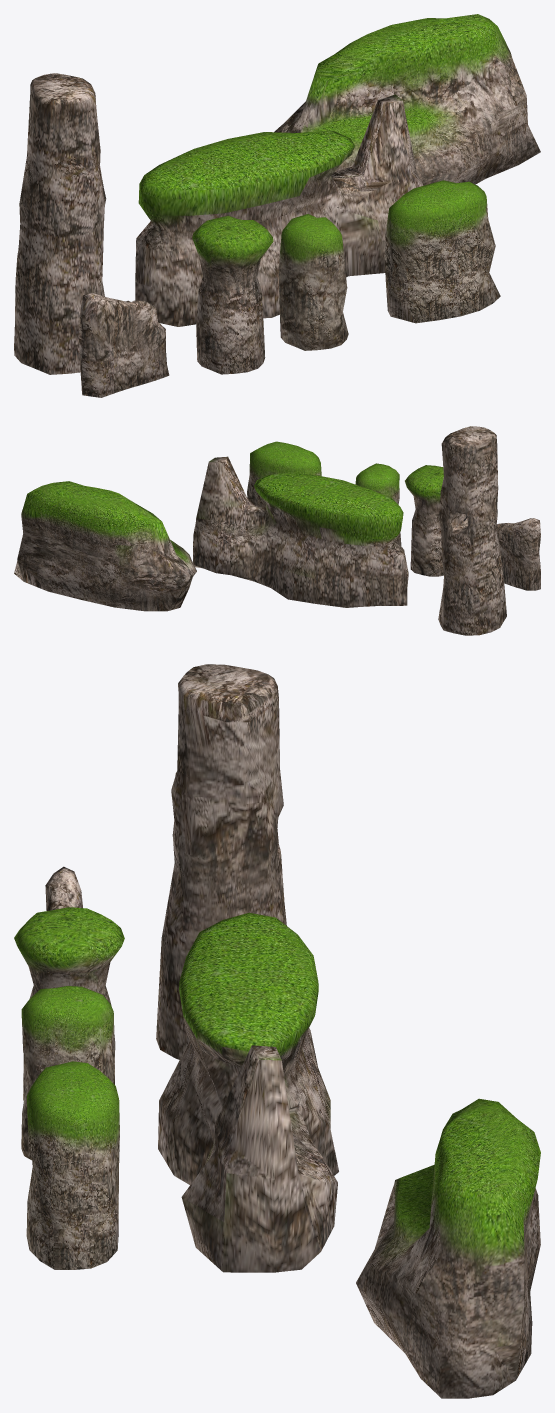
The model's file is cliffs.fbx.
3 views of the same model, one above another, from view 1: azimuth 30°, elevation 25°; view 2: azimuth 150°, elevation 25°; view 3: azimuth 270°, elevation 25° (orthographic). The views are drawn at different scales.
Visible parts, largest first — view 1: cliff_6, cliff_7, cliff_4, cliff_3, cliff_2, cliff_1, cliff_5; view 2: cliff_6, cliff_7, cliff_4, cliff_2, cliff_5, cliff_3, cliff_1; view 3: cliff_6, cliff_7, cliff_4, cliff_3, cliff_1, cliff_2, cliff_5.
Part boxes in pixels (x1,y1,x2,y2): cliff_6: [135, 94, 423, 326]; cliff_7: [274, 14, 540, 185]; cliff_4: [14, 73, 106, 374]; cliff_3: [384, 180, 500, 323]; cliff_2: [192, 215, 273, 374]; cliff_1: [279, 214, 348, 350]; cliff_5: [79, 292, 169, 397]; cliff_6: [193, 456, 408, 607]; cliff_7: [14, 481, 196, 611]; cliff_4: [438, 426, 506, 635]; cliff_2: [405, 465, 444, 576]; cliff_5: [496, 518, 540, 590]; cliff_3: [247, 441, 321, 508]; cliff_1: [355, 463, 401, 545]; cliff_6: [158, 912, 338, 1272]; cliff_7: [356, 1098, 540, 1398]; cliff_4: [156, 664, 286, 1059]; cliff_3: [26, 1061, 119, 1269]; cliff_1: [21, 986, 114, 1160]; cliff_2: [14, 907, 124, 1101]; cliff_5: [45, 866, 82, 910].
Size of the model in its own units: 3118 by 1317 by 1760.
Materials: 7 (7 with a texture image).
